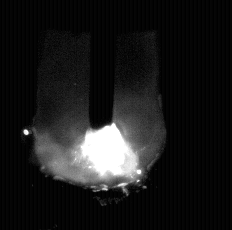arame: (90, 0, 115, 130)
poca: (34, 0, 167, 230)
